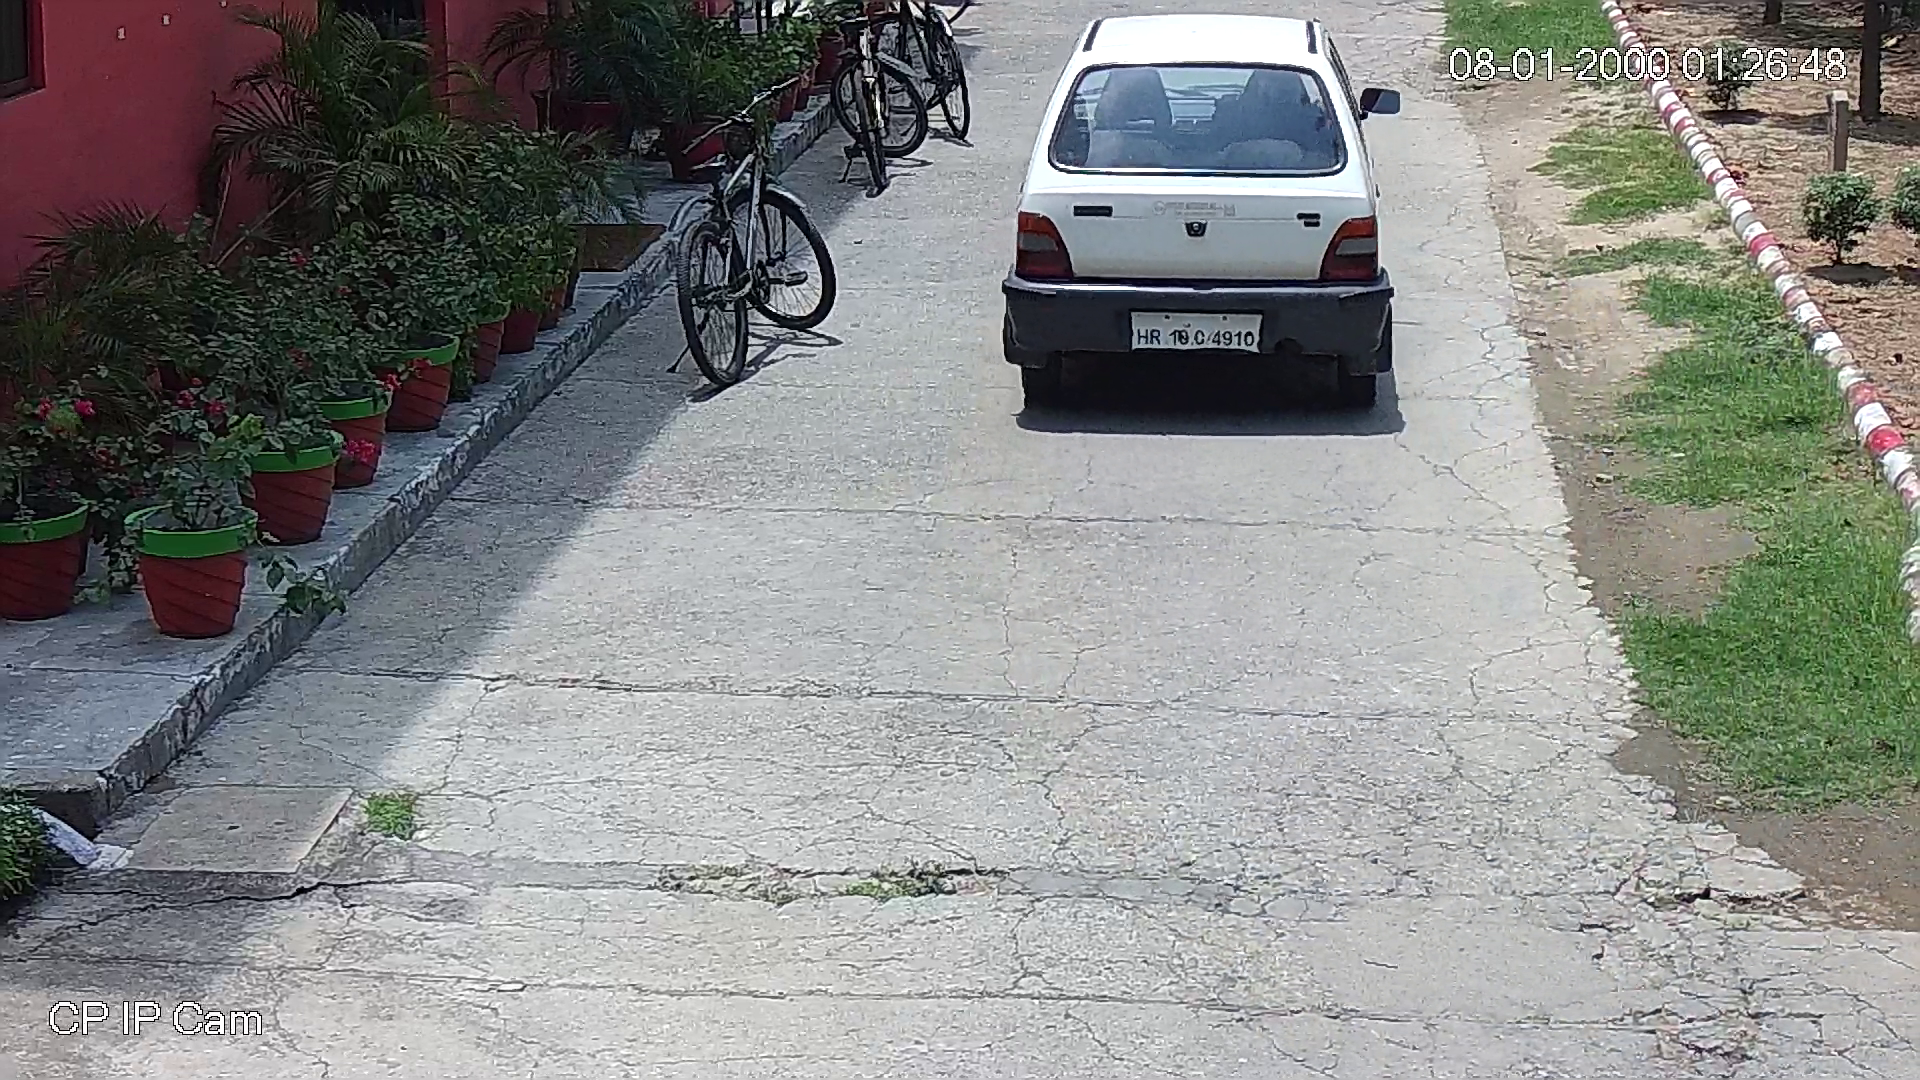plate: (1125, 307, 1269, 354)
